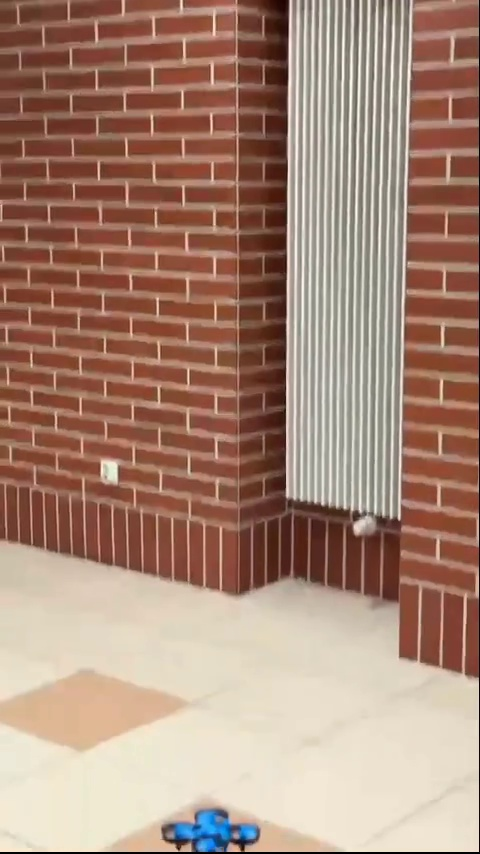drone: (165, 809, 270, 854)
